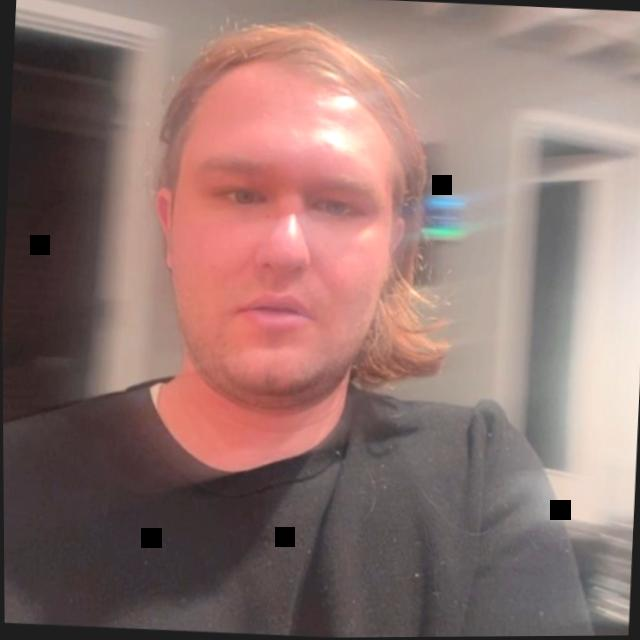NO-Mask: (127, 0, 453, 480)
